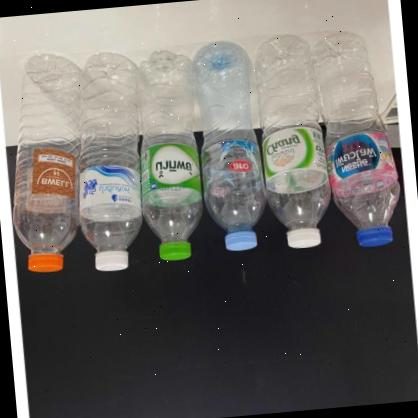bottle: (0, 49, 96, 275), (316, 28, 406, 250), (67, 50, 148, 274), (254, 34, 336, 252), (188, 38, 270, 254), (129, 49, 208, 266)
cap: (27, 249, 67, 274), (91, 248, 131, 272), (356, 224, 394, 249), (286, 225, 322, 249), (158, 238, 192, 263), (225, 229, 259, 253)
label: (328, 128, 398, 188), (9, 146, 77, 206), (262, 126, 327, 182), (138, 144, 200, 202), (76, 162, 141, 212), (202, 138, 263, 183)
